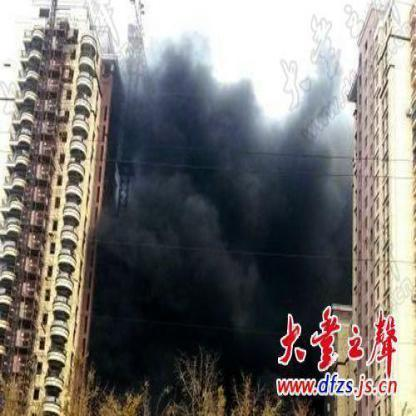smoke: (118, 40, 260, 378), (264, 108, 344, 349), (96, 209, 114, 388)
